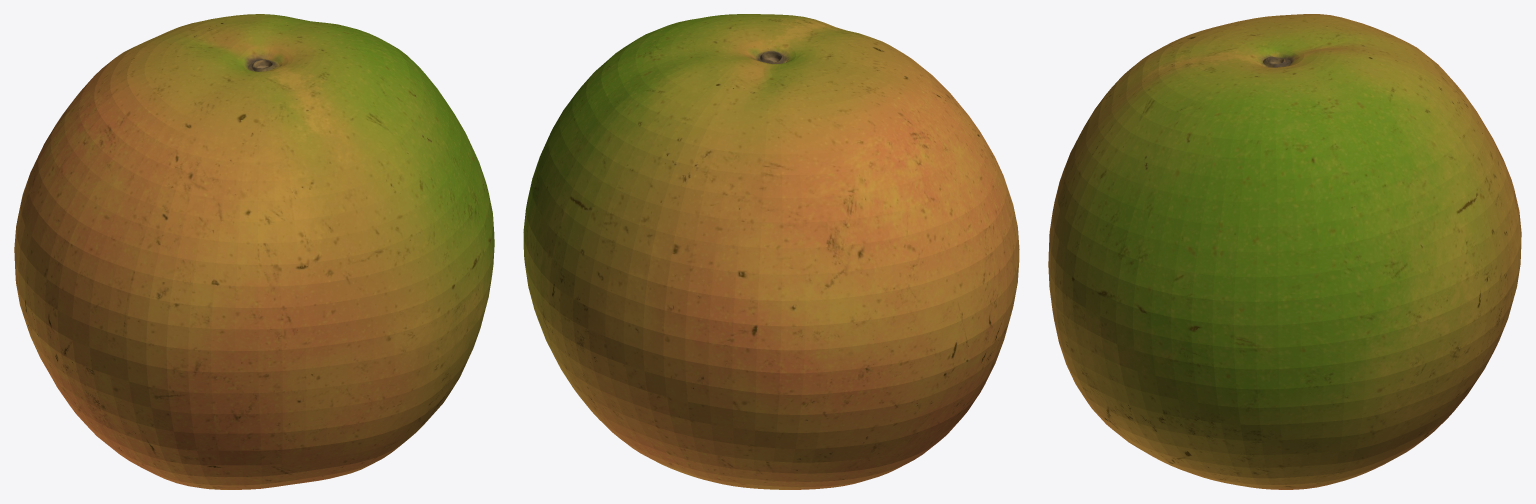
The model's file is orange.gltf.
3 views of the same model, side by side, from view 1: azimuth 30°, elevation 25°; view 2: azimuth 150°, elevation 25°; view 3: azimuth 270°, elevation 25° (orthographic). The views are drawn at different scales.
Parts seen in each view (by area): view 1: Orange; view 2: Orange; view 3: Orange.
Part boxes in pixels (box(x1,y1,x2,y2)): Orange: box(14, 14, 494, 489); Orange: box(523, 14, 1019, 489); Orange: box(1048, 14, 1521, 489).
Size of the model in its own units: 3.36 by 3.02 by 3.22.
Materials: 1 (1 with a texture image).
